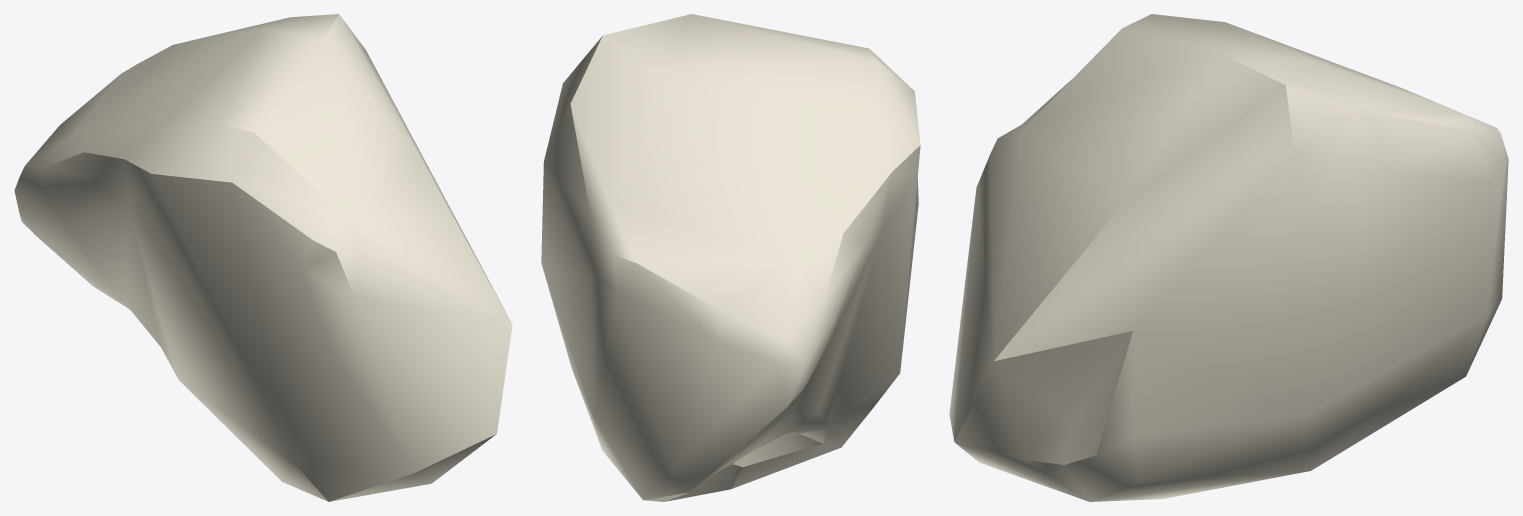
Rendered from fma24439_fj3390.glb.
The picture shows the model from 3 angles, left to right: view 1: azimuth 30°, elevation 25°; view 2: azimuth 150°, elevation 25°; view 3: azimuth 270°, elevation 25°; orthographic projection. The views are drawn at different scales.
Parts seen in each view (by area): view 1: FMA24439_FJ3390; view 2: FMA24439_FJ3390; view 3: FMA24439_FJ3390.
Part boxes in pixels (x1=…): FMA24439_FJ3390: x1=14, y1=14, x2=512, y2=501; FMA24439_FJ3390: x1=541, y1=14, x2=920, y2=501; FMA24439_FJ3390: x1=949, y1=14, x2=1508, y2=501.
Size of the model in its own units: 0.0106 by 0.0138 by 0.0151.
